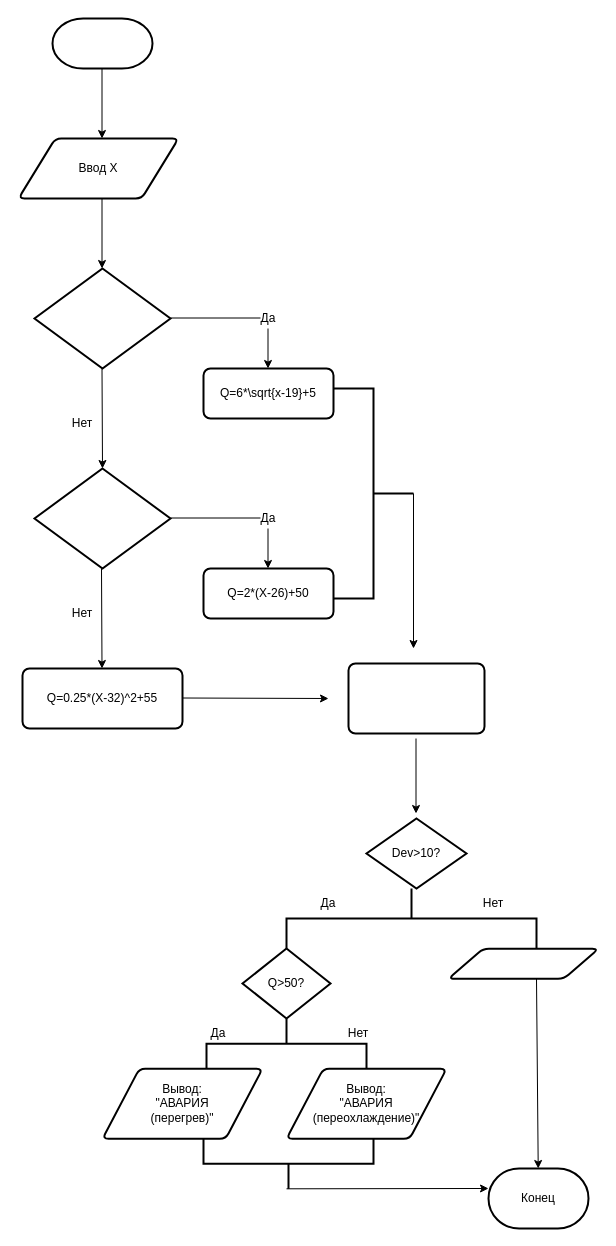
This 616x1246 diagram has some shape labels left out. The shapes that lost their labels are listed below. From the top down, each one's centre as x and y in pixels, then its label:
[102,43]: Начало
[102,318]: X<20?
[102,518]: X<=32?
[416,698]: Вычисление отклонения: Dev =(Q-50)
[523,963]: Вывод: "Норма"
